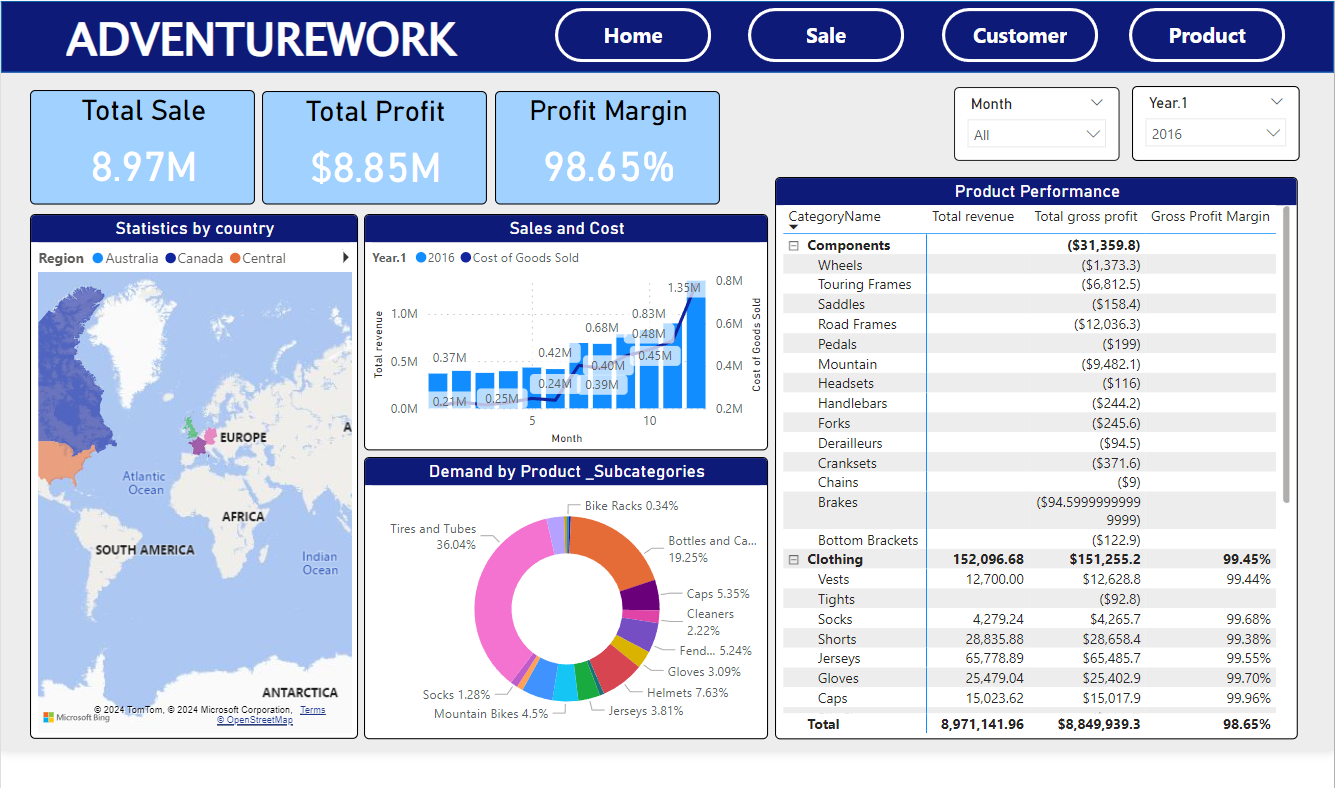

This screenshot's page, from the dashboard's own definition file:
{"tool":"powerbi","page":{"name":"Sale Report","canvas":[1280,720],"ordinal":1},"visuals":[{"type":"card","title":"Total Sale","fields":{"Values":["Measure.Total revenue"]},"box":[28,85.4,216.4,110],"z":0},{"type":"card","title":"Total Profit","fields":{"Values":["Measure.Total profit"]},"box":[250.6,86.4,216.1,109.5],"z":1000},{"type":"card","title":"Profit Margin","fields":{"Values":["Measure.Gross Profit Margin"]},"box":[474.4,86.4,216.1,109.5],"z":2000},{"type":"shape","box":[0,0,1280,68.7],"z":3000},{"type":"textbox","box":[57.5,0,409,77.7],"z":4000},{"type":"actionButton","box":[717.5,7,150,52],"z":5000},{"type":"actionButton","box":[903.5,7,150,52],"z":6000},{"type":"actionButton","box":[1083.5,7,150,52],"z":7000},{"type":"actionButton","box":[531.5,7,150,52],"z":8000},{"type":"slicer","fields":{"Values":["Dim_date.Month"]},"box":[915.1,82.6,159.4,71.1],"z":9000},{"type":"slicer","fields":{"Values":["Dim_date.Year.1"]},"box":[1086,81.6,161.3,72],"z":10000},{"type":"filledMap","title":"Statistics by country","fields":{"Category":["Dim_Territories.Country","Dim_Territories.Continent"],"Series":["Dim_Territories.Region"]},"box":[27.8,204.5,315,504.1],"z":11000},{"type":"donutChart","title":"Demand by Product _Subcategories","fields":{"Series":["Dim_Product_Subcategories.SubcategoryName"],"Y":["Measure.Total Product Sold"]},"box":[348.6,437.9,387.9,270.8],"z":13000},{"type":"pivotTable","title":"Product Performance","fields":{"Rows":["Dim_Product_Categories.CategoryName","Dim_Product_Subcategories.SubcategoryName"],"Values":["Measure.Total revenue","Measure.Total gross profit","Measure.Gross Profit Margin"]},"box":[743.2,169,502.2,539.7],"z":14000},{"type":"lineClusteredColumnComboChart","title":"Sales and Cost","fields":{"Y":["Measure.Total revenue"],"Y2":["Measure.Cost of Goods Sold"],"Category":["Dim_date.Month"],"Series":["Dim_date.Year.1"]},"box":[348.6,204.5,387.9,226.6],"z":15001}]}

Visuals, with their boxes in screenshot pixels (x1, y1, x2, y2):
"Total Sale" card: left=32, top=88, right=255, bottom=201
"Total Profit" card: left=261, top=89, right=484, bottom=201
"Profit Margin" card: left=491, top=89, right=714, bottom=201
shape: left=3, top=0, right=1320, bottom=71
textbox: left=63, top=0, right=483, bottom=80
actionButton: left=741, top=7, right=896, bottom=61
actionButton: left=933, top=7, right=1087, bottom=61
actionButton: left=1118, top=7, right=1272, bottom=61
actionButton: left=550, top=7, right=704, bottom=61
slicer - Dim_date.Month: left=945, top=85, right=1109, bottom=158
slicer - Dim_date.Year.1: left=1120, top=84, right=1286, bottom=158
"Statistics by country" filledMap: left=32, top=210, right=356, bottom=729
"Demand by Product _Subcategories" donutChart: left=362, top=450, right=761, bottom=729
"Product Performance" pivotTable: left=768, top=174, right=1284, bottom=729
"Sales and Cost" lineClusteredColumnComboChart: left=362, top=210, right=761, bottom=443
